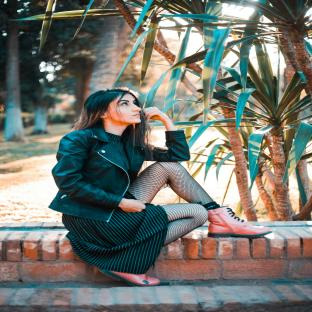Human: (49, 87, 271, 287)
